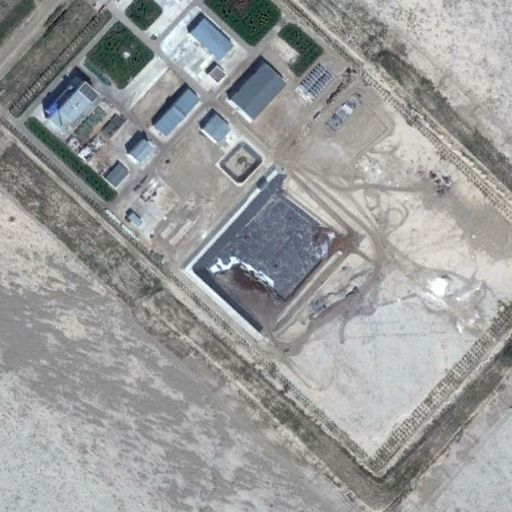lf: (188, 170, 335, 330)
